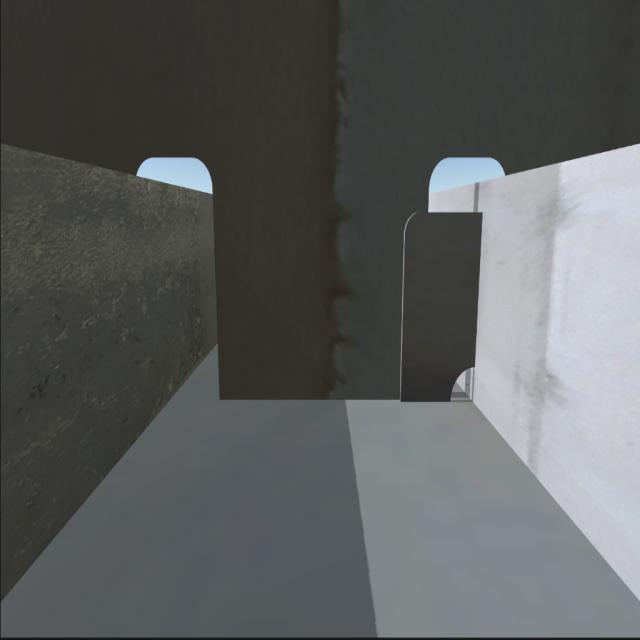fillet_hole: (448, 361, 478, 404)
fillet_yong_jeop_jang: (219, 394, 450, 406)
longi_yong_jeop_jang: (472, 210, 484, 367)
plate_CP05: (403, 207, 480, 403)
